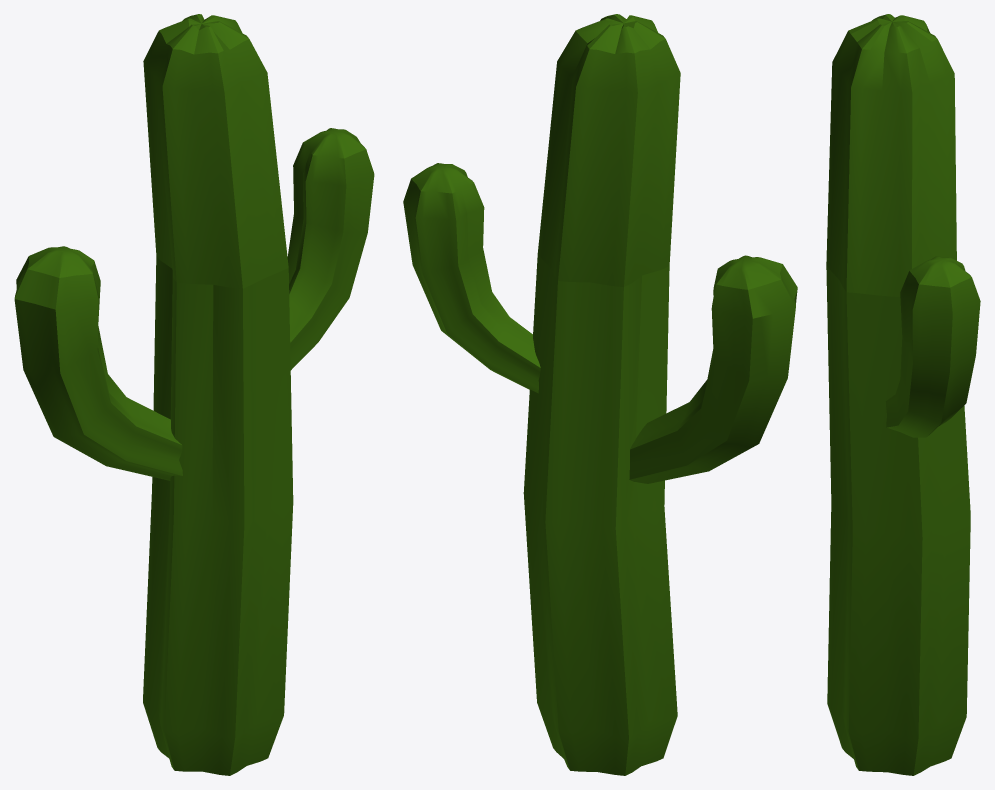
Rendered from cactus2.fbx.
3 views of the same model, side by side, from view 1: azimuth 30°, elevation 25°; view 2: azimuth 150°, elevation 25°; view 3: azimuth 270°, elevation 25° (orthographic).
Visible parts, largest first — view 1: cactus.002; view 2: cactus.002; view 3: cactus.002.
Part boxes in pixels (left/top/right/bottom): cactus.002: left=14, top=14, right=374, bottom=775; cactus.002: left=403, top=14, right=797, bottom=775; cactus.002: left=826, top=14, right=980, bottom=775.
Size of the model in its own units: 32.07 by 60.88 by 11.69.
